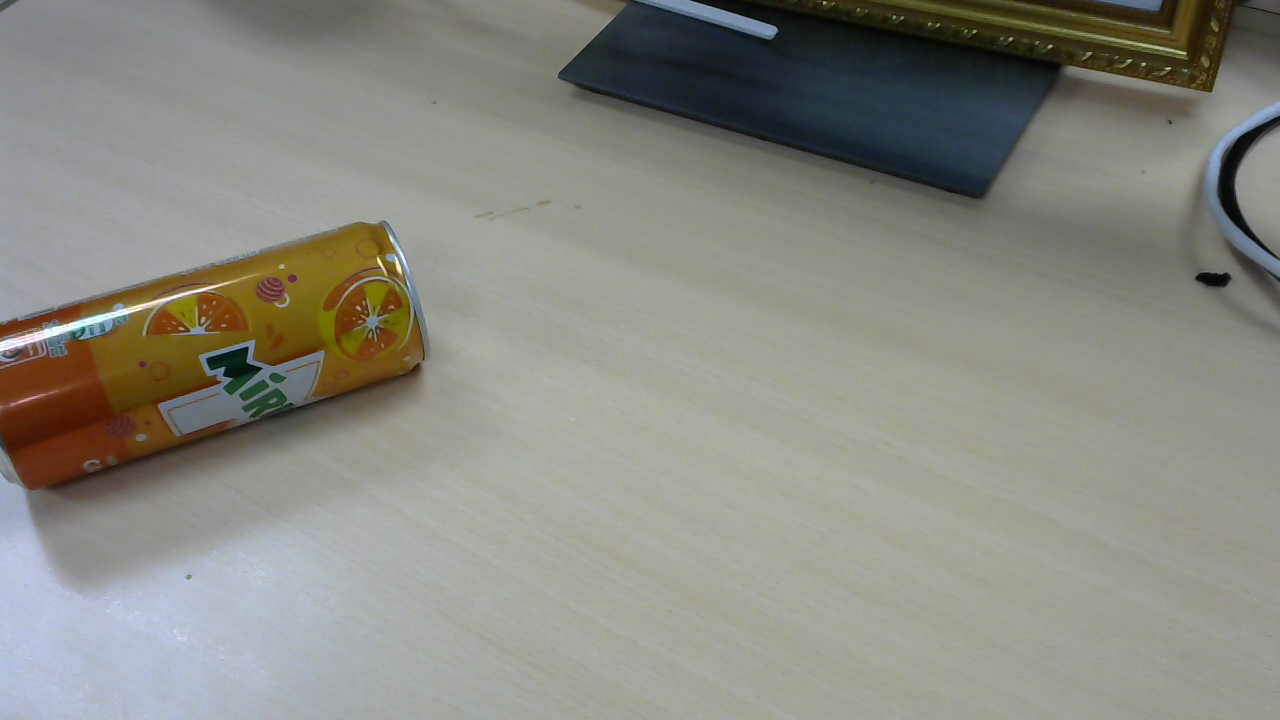Mirinda: (7, 224, 432, 497)
